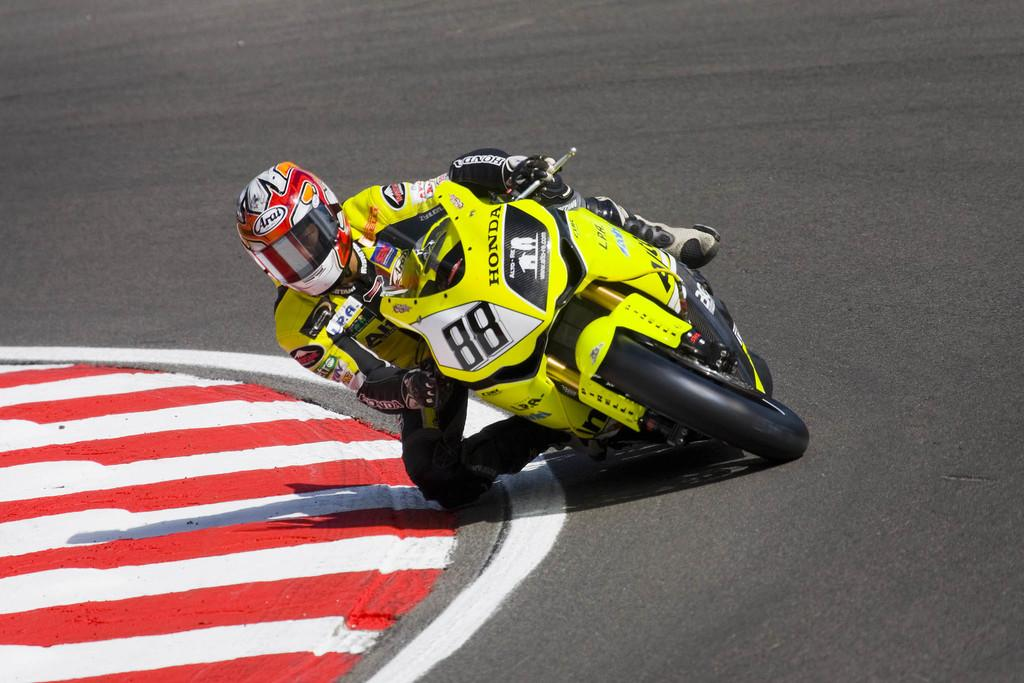helmet: (235, 161, 353, 298)
